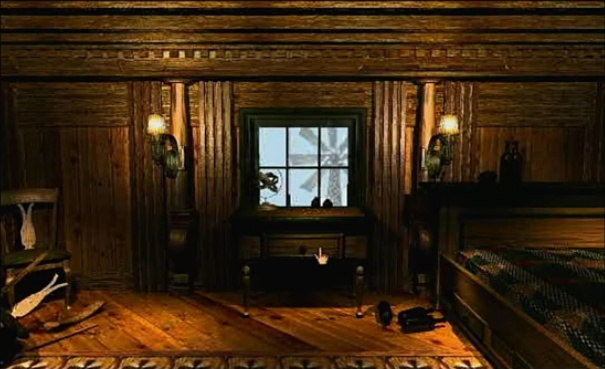Pointer: (311, 244, 333, 266)
